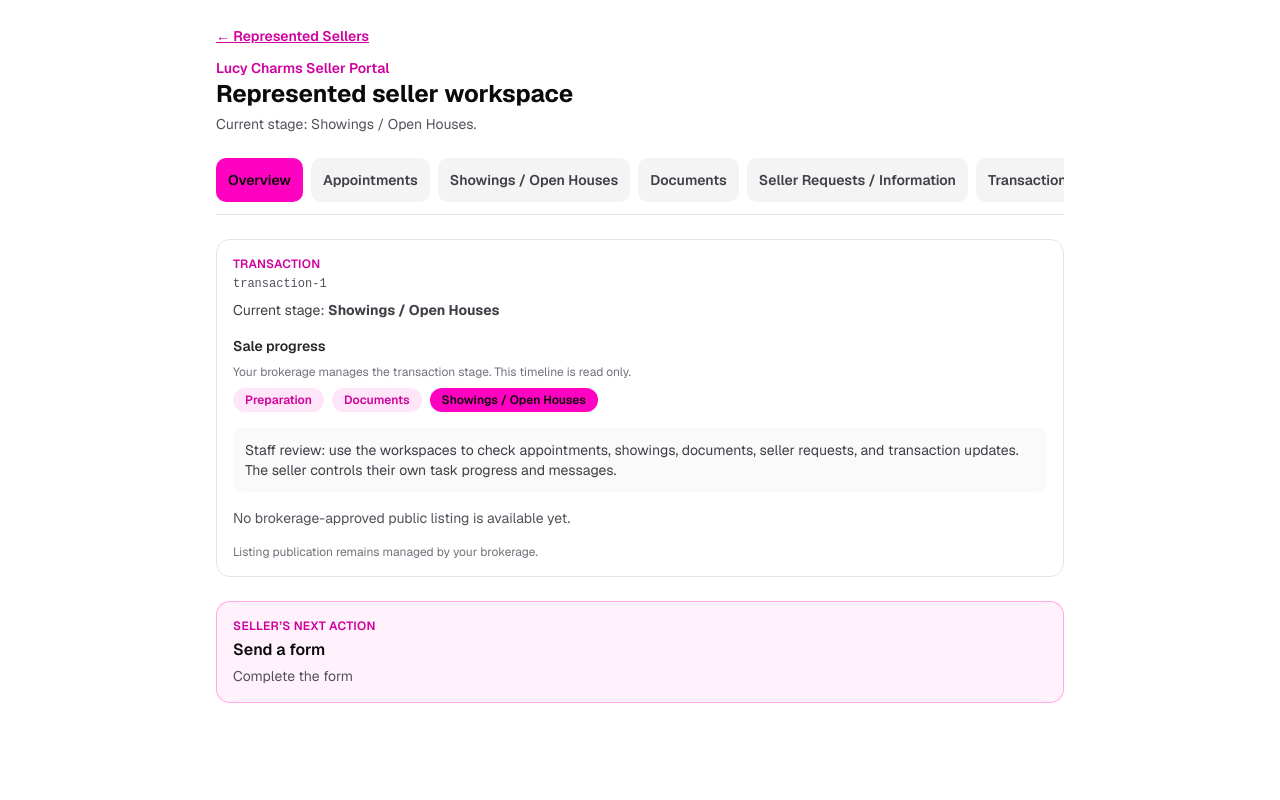
agent sees read-only seller tasks and no seller message composer
Expected: the navigation bar named "Seller portal workspaces" is shown, [216,158,1064,215]
Click the button "Seller Requests / Information" at point(857, 180), box [747,158,968,202]
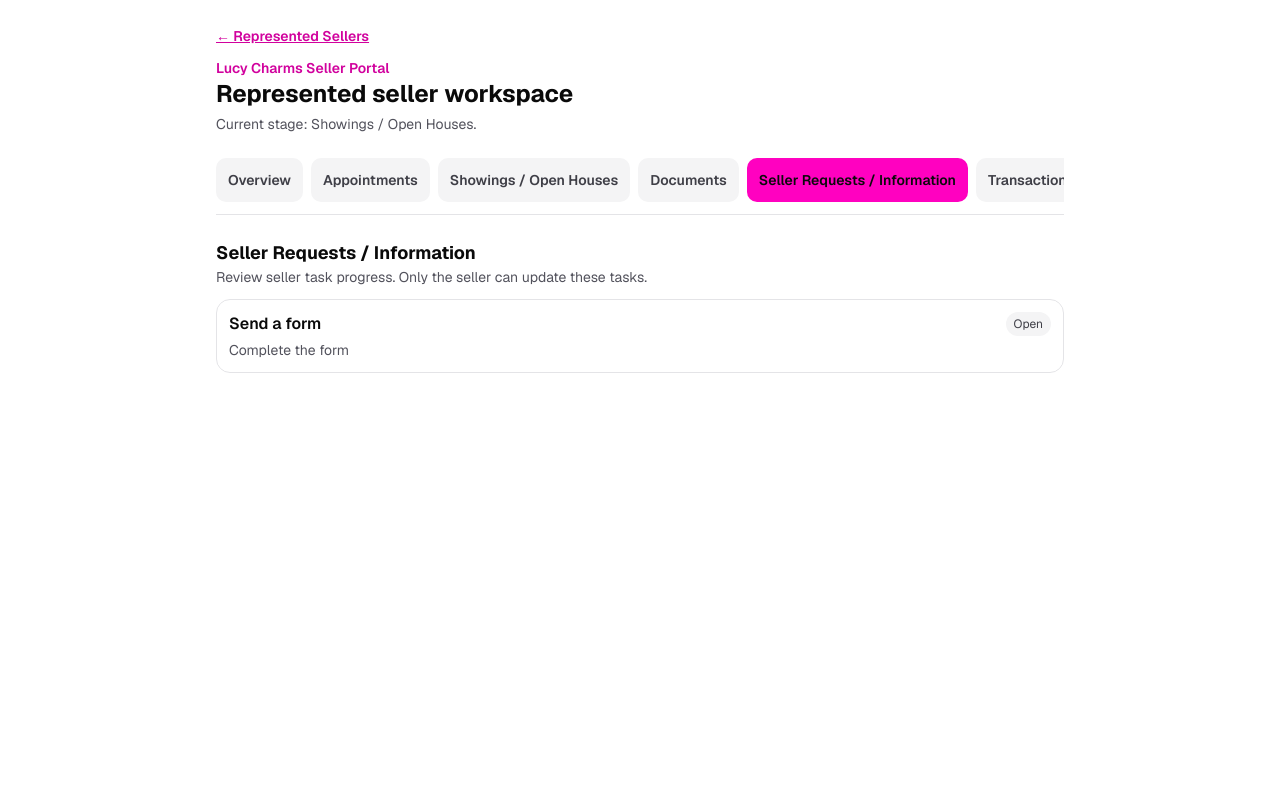
Expected: the text "Send a form" is shown, [229,313,321,334]
Click the button "Transaction Updates" at point(1057, 180), box [976,158,1138,202]
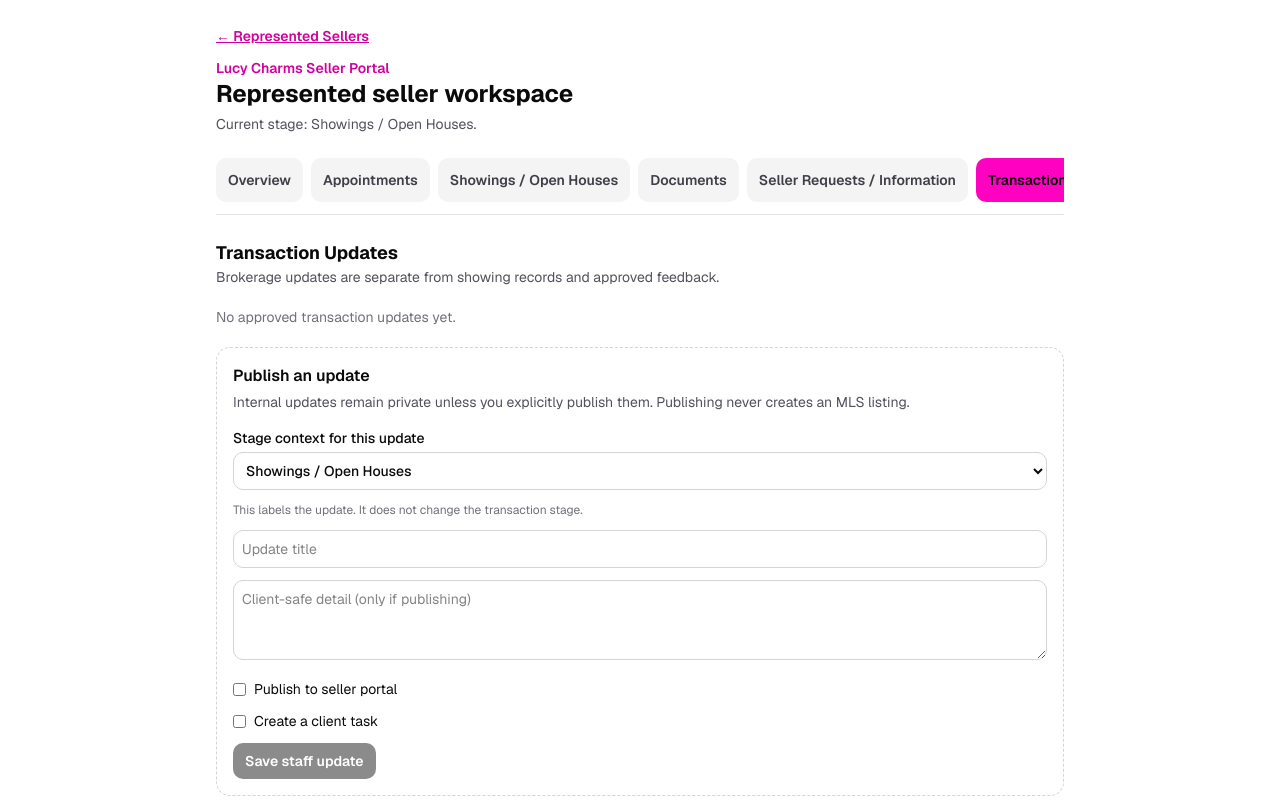
Expected: the button "Request document" is not shown
Now the button "Save staff update" is shown, box [233,743,376,779]
Click the button "Documents" at point(688, 180), box [638,158,739,202]
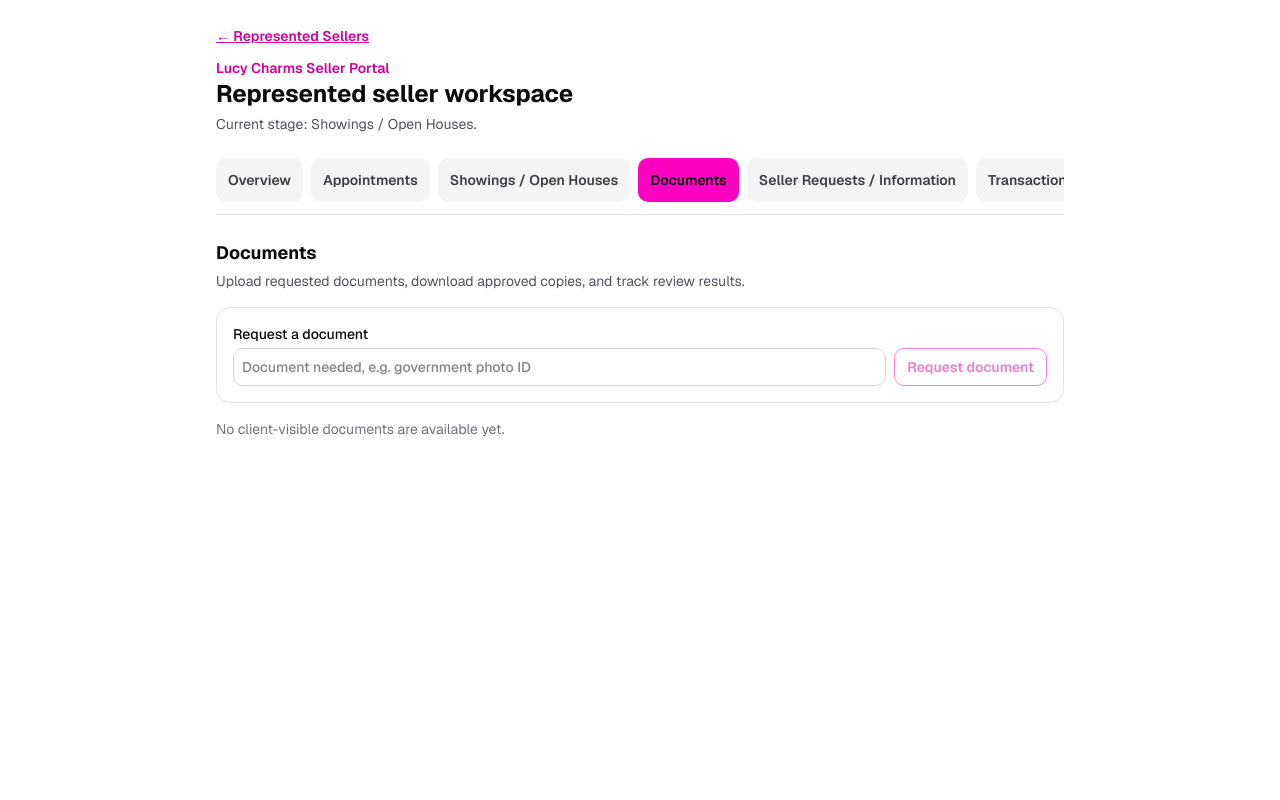
Now the button "Request document" is shown, box [894,348,1047,386]
